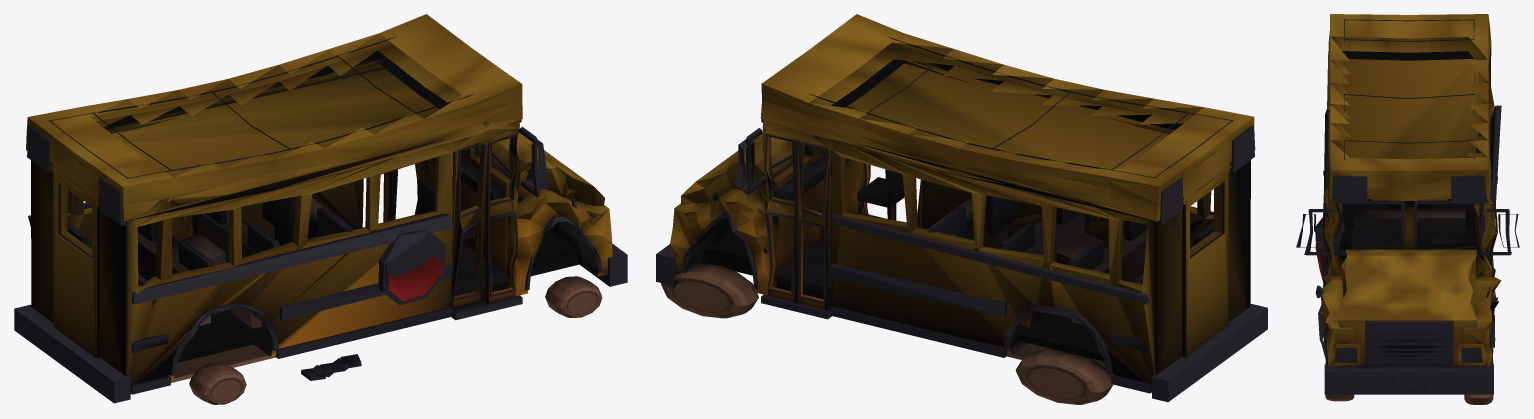
Rendered from veh.school-bus.burned.glb.
3 renders of one model, left to right at view 1: azimuth 30°, elevation 25°; view 2: azimuth 150°, elevation 25°; view 3: azimuth 270°, elevation 25°, orthographic. The views are drawn at different scales.
Parts seen in each view (by area): view 1: body, wheelRR, wheelFR; view 2: body, wheelRL, wheelFL; view 3: body, wheelFL.
Part boxes in pixels (x1=…): body: x1=14, y1=14, x2=627, y2=403; wheelRR: x1=189, y1=363, x2=246, y2=404; wheelFR: x1=545, y1=276, x2=602, y2=317; body: x1=656, y1=14, x2=1267, y2=402; wheelRL: x1=1015, y1=349, x2=1112, y2=404; wheelFL: x1=661, y1=263, x2=758, y2=318; body: x1=1296, y1=14, x2=1519, y2=394; wheelFL: x1=1464, y1=361, x2=1493, y2=404.
Bounding box in the file's own units: 7.5 × 3.46 × 3.42.
